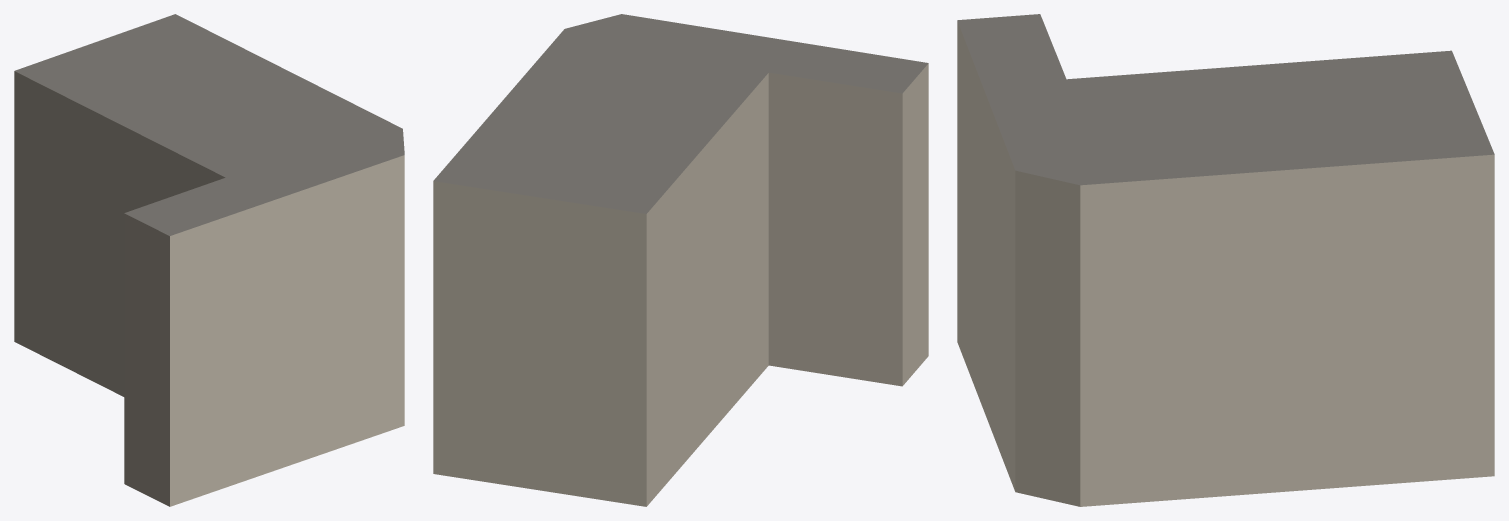
3 views of the same model, side by side, from view 1: azimuth 30°, elevation 25°; view 2: azimuth 150°, elevation 25°; view 3: azimuth 270°, elevation 25° (orthographic). The views are drawn at different scales.
Visible parts, largest first — view 1: HP-w378107135; view 2: HP-w378107135; view 3: HP-w378107135.
Part boxes in pixels (left/top/right/bottom): HP-w378107135: left=14, top=14, right=404, bottom=506; HP-w378107135: left=433, top=14, right=928, bottom=506; HP-w378107135: left=957, top=14, right=1494, bottom=506.
Bounding box in the file's own units: 20.56 × 18 × 27.26.
